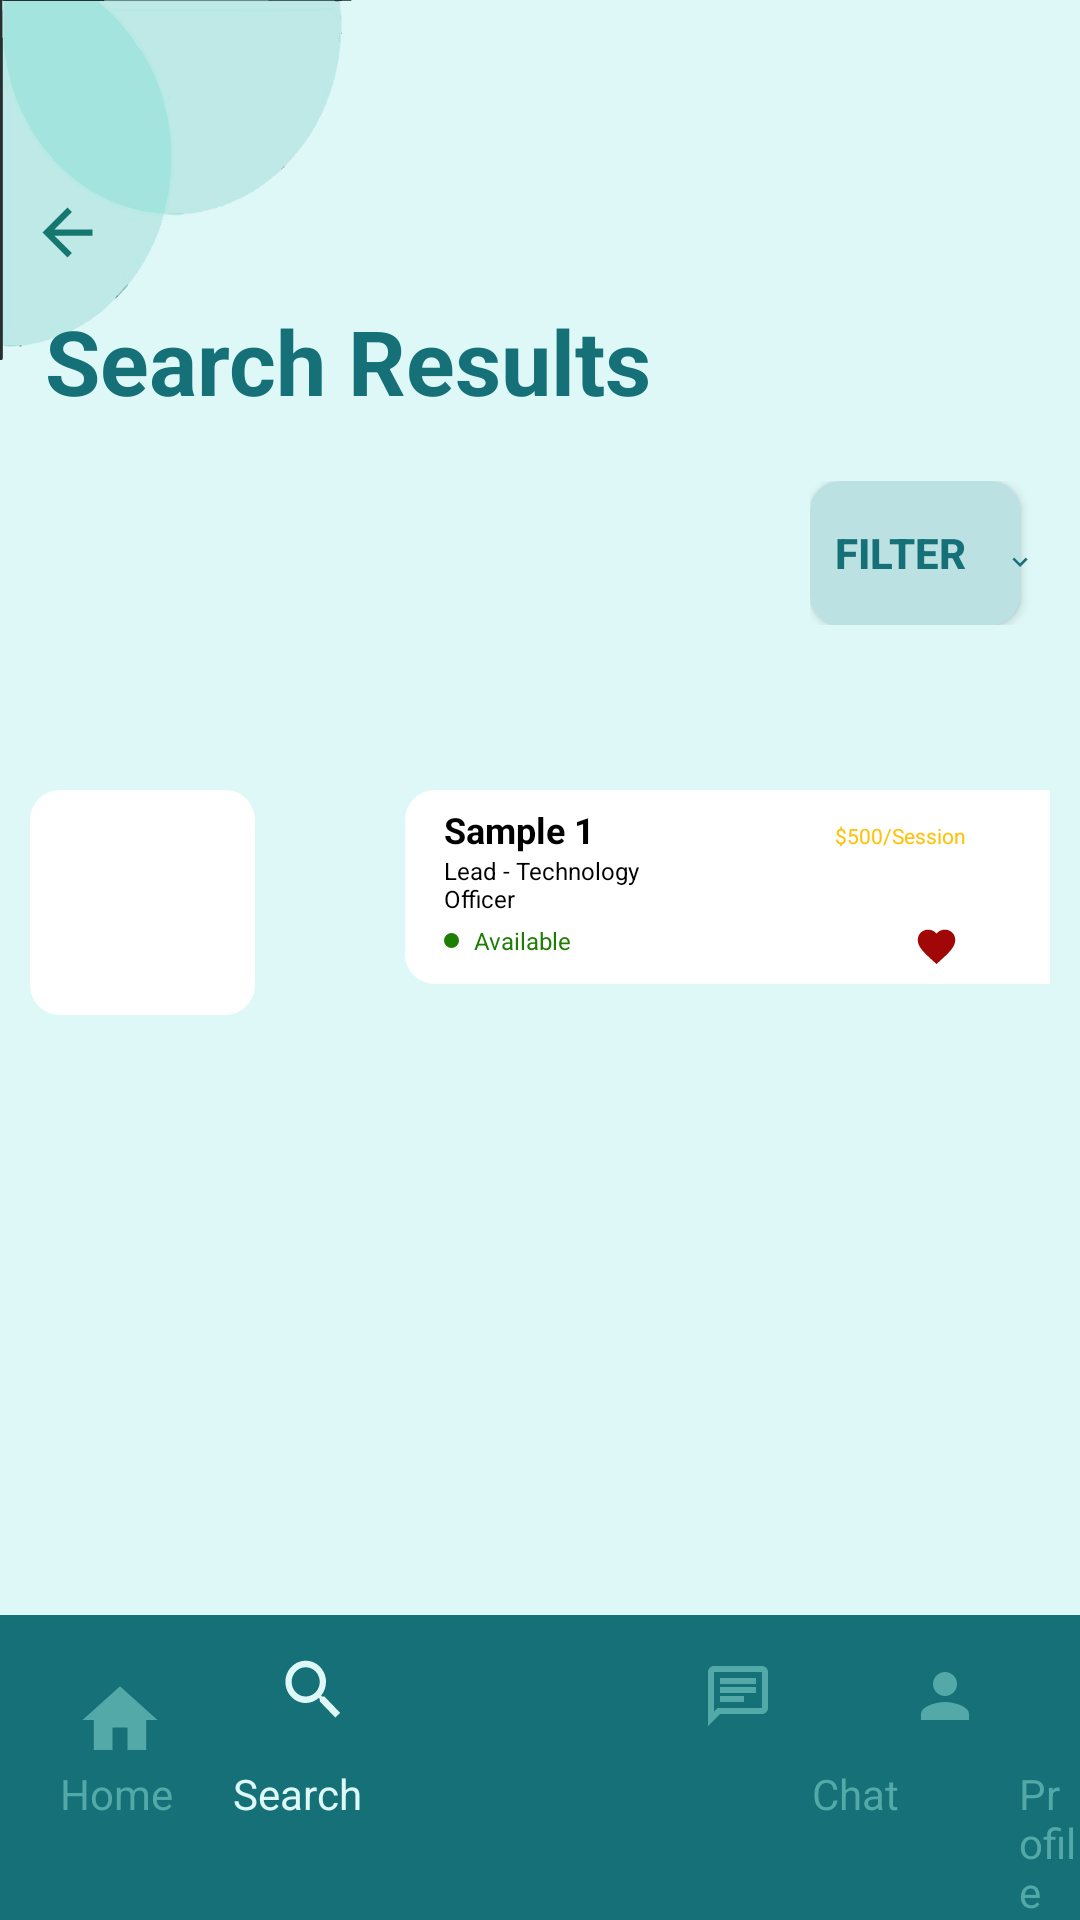

Icon click points for this 1080×1920 phone screenshot, format point (x, y):
favorite heart: point (936, 946)
person: point (945, 1696)
